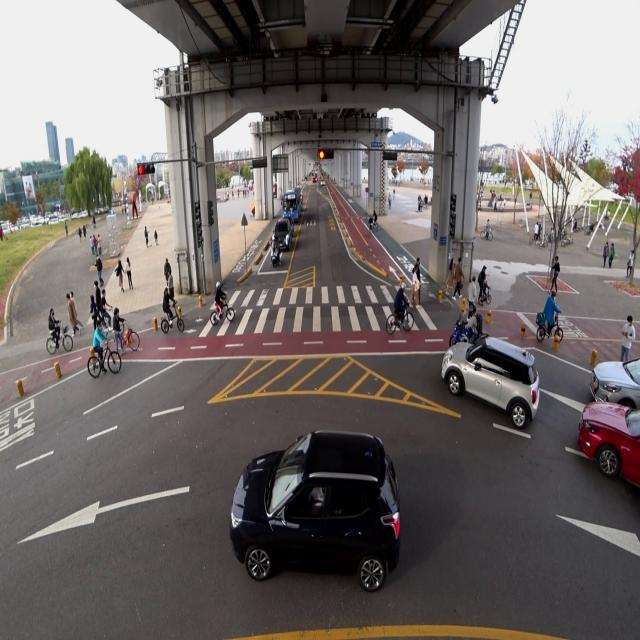Bus: (280, 181, 303, 228)
Car: (230, 406, 417, 612), (442, 326, 542, 440), (565, 384, 640, 499), (588, 348, 640, 413), (274, 214, 295, 257), (281, 212, 296, 235)
Motorcycle: (447, 307, 489, 354), (270, 232, 282, 266), (270, 232, 282, 263)
